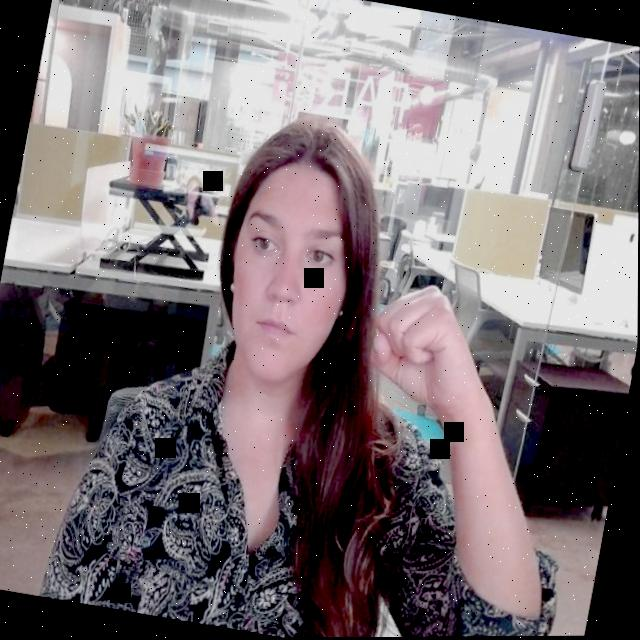Rock: (350, 268, 493, 429)
